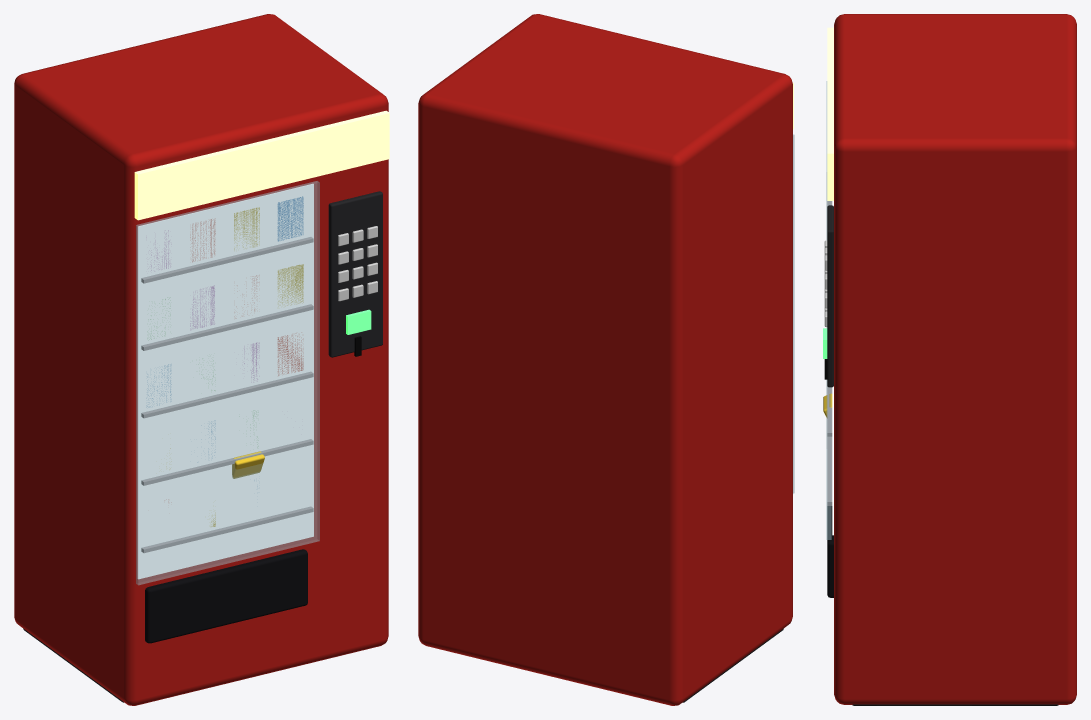
The model's file is vending_machine.glb.
3 views of the same model, side by side, from view 1: azimuth 30°, elevation 25°; view 2: azimuth 150°, elevation 25°; view 3: azimuth 270°, elevation 25° (orthographic). The views are drawn at different scales.
Visible parts, largest first — view 1: Cube, Cube.028, Cube.002, Cube.001, Cube.044, Cube.029, Cube.003, Cube.013, Cube.018, Cube.023, Cube.008, Cube.027 (+2 smaller); view 2: Cube, Cube.028; view 3: Cube, Cube.029, Cube.028, Cube.001, Cube.044, Cube.003, Cube.047.
Part boxes in pixels (left/top/right/bottom): Cube: left=14, top=14, right=388, bottom=705; Cube.028: left=136, top=181, right=319, bottom=585; Cube.002: left=137, top=184, right=313, bottom=579; Cube.001: left=134, top=110, right=389, bottom=220; Cube.044: left=145, top=549, right=307, bottom=643; Cube.029: left=328, top=191, right=382, bottom=357; Cube.003: left=141, top=506, right=313, bottom=553; Cube.013: left=141, top=371, right=313, bottom=418; Cube.018: left=141, top=304, right=313, bottom=350; Cube.023: left=141, top=237, right=313, bottom=283; Cube.008: left=141, top=439, right=313, bottom=485; Cube.027: left=277, top=196, right=303, bottom=241; Cube: left=418, top=14, right=792, bottom=705; Cube.028: left=793, top=134, right=794, bottom=493; Cube: left=834, top=14, right=1076, bottom=704; Cube.029: left=827, top=205, right=833, bottom=387; Cube.028: left=826, top=81, right=831, bottom=539; Cube.001: left=827, top=27, right=833, bottom=200; Cube.044: left=827, top=506, right=833, bottom=597; Cube.003: left=827, top=436, right=832, bottom=505; Cube.047: left=852, top=704, right=1058, bottom=705.
Size of the model in its own units: 0.9 by 1.8 by 0.732.
